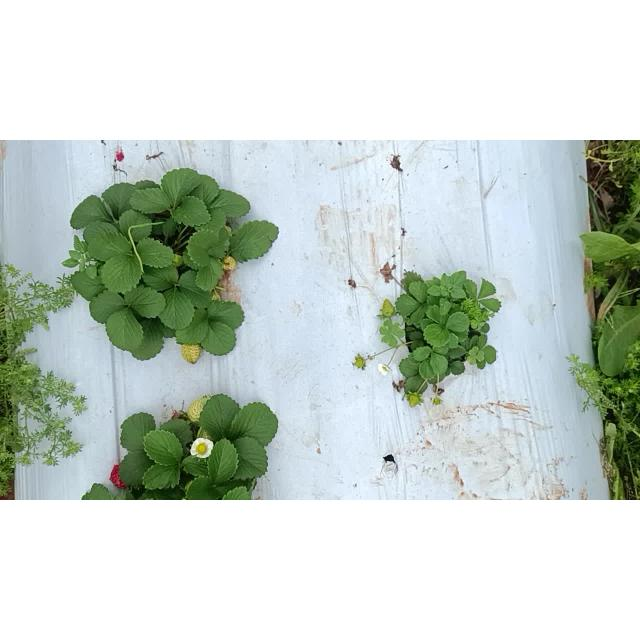no-maduro: (188, 392, 212, 422), (182, 344, 200, 364), (382, 299, 394, 315), (224, 256, 236, 270)
